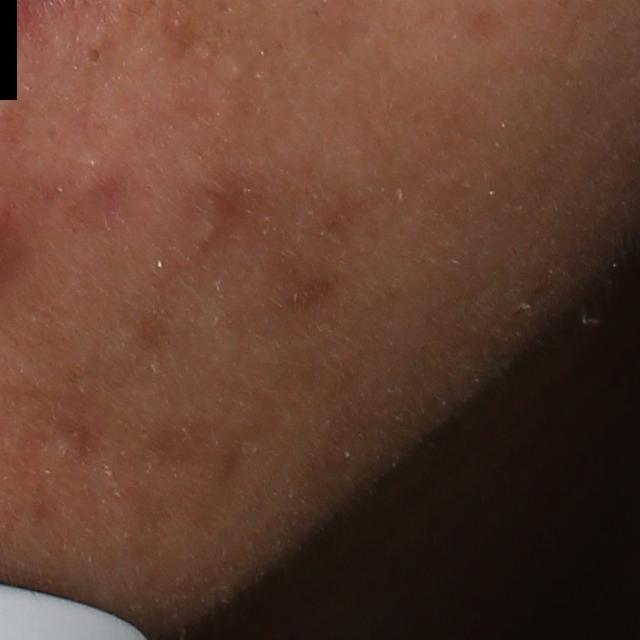comedo: (190, 217, 217, 246), (84, 45, 106, 66)
papule: (55, 146, 131, 234)
